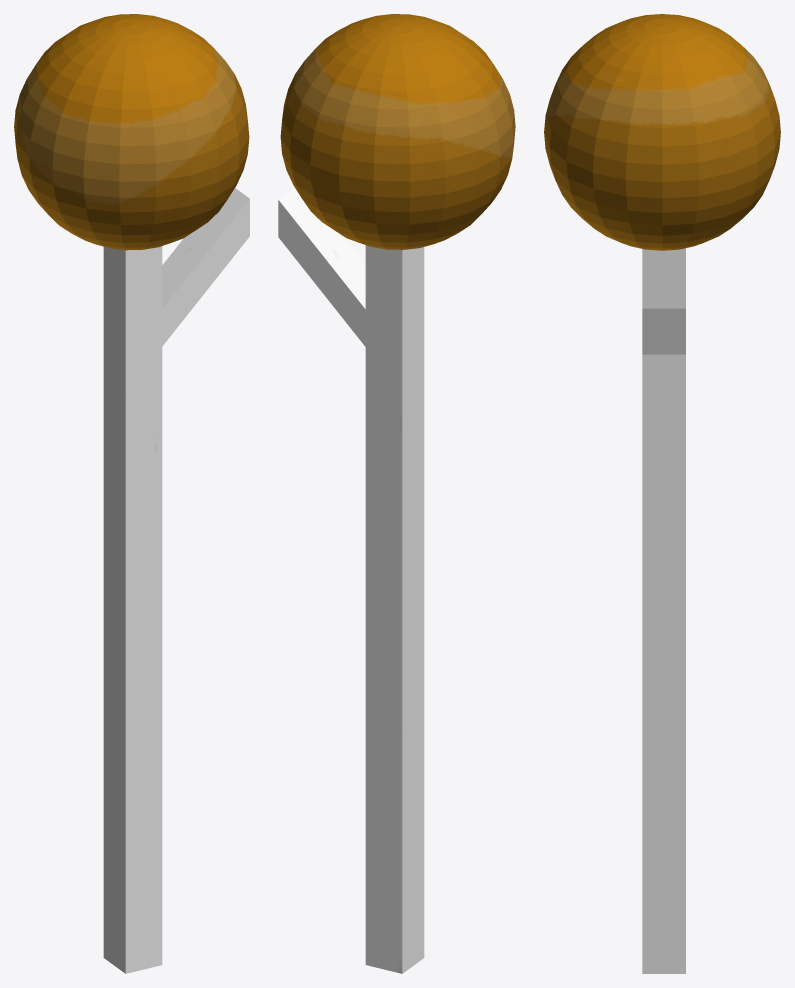
Rendered from tree_01.fbx.
3 views of the same model, side by side, from view 1: azimuth 30°, elevation 25°; view 2: azimuth 150°, elevation 25°; view 3: azimuth 270°, elevation 25° (orthographic).
Parts seen in each view (by area): view 1: headusOBJexport; view 2: headusOBJexport; view 3: headusOBJexport.
Boxes of the visible parts, left/top/right/bottom form: headusOBJexport: left=14, top=14, right=249, bottom=973; headusOBJexport: left=278, top=14, right=515, bottom=973; headusOBJexport: left=544, top=14, right=780, bottom=973.
Bounding box in the file's own units: 3.26 × 13.9 × 3.18.
